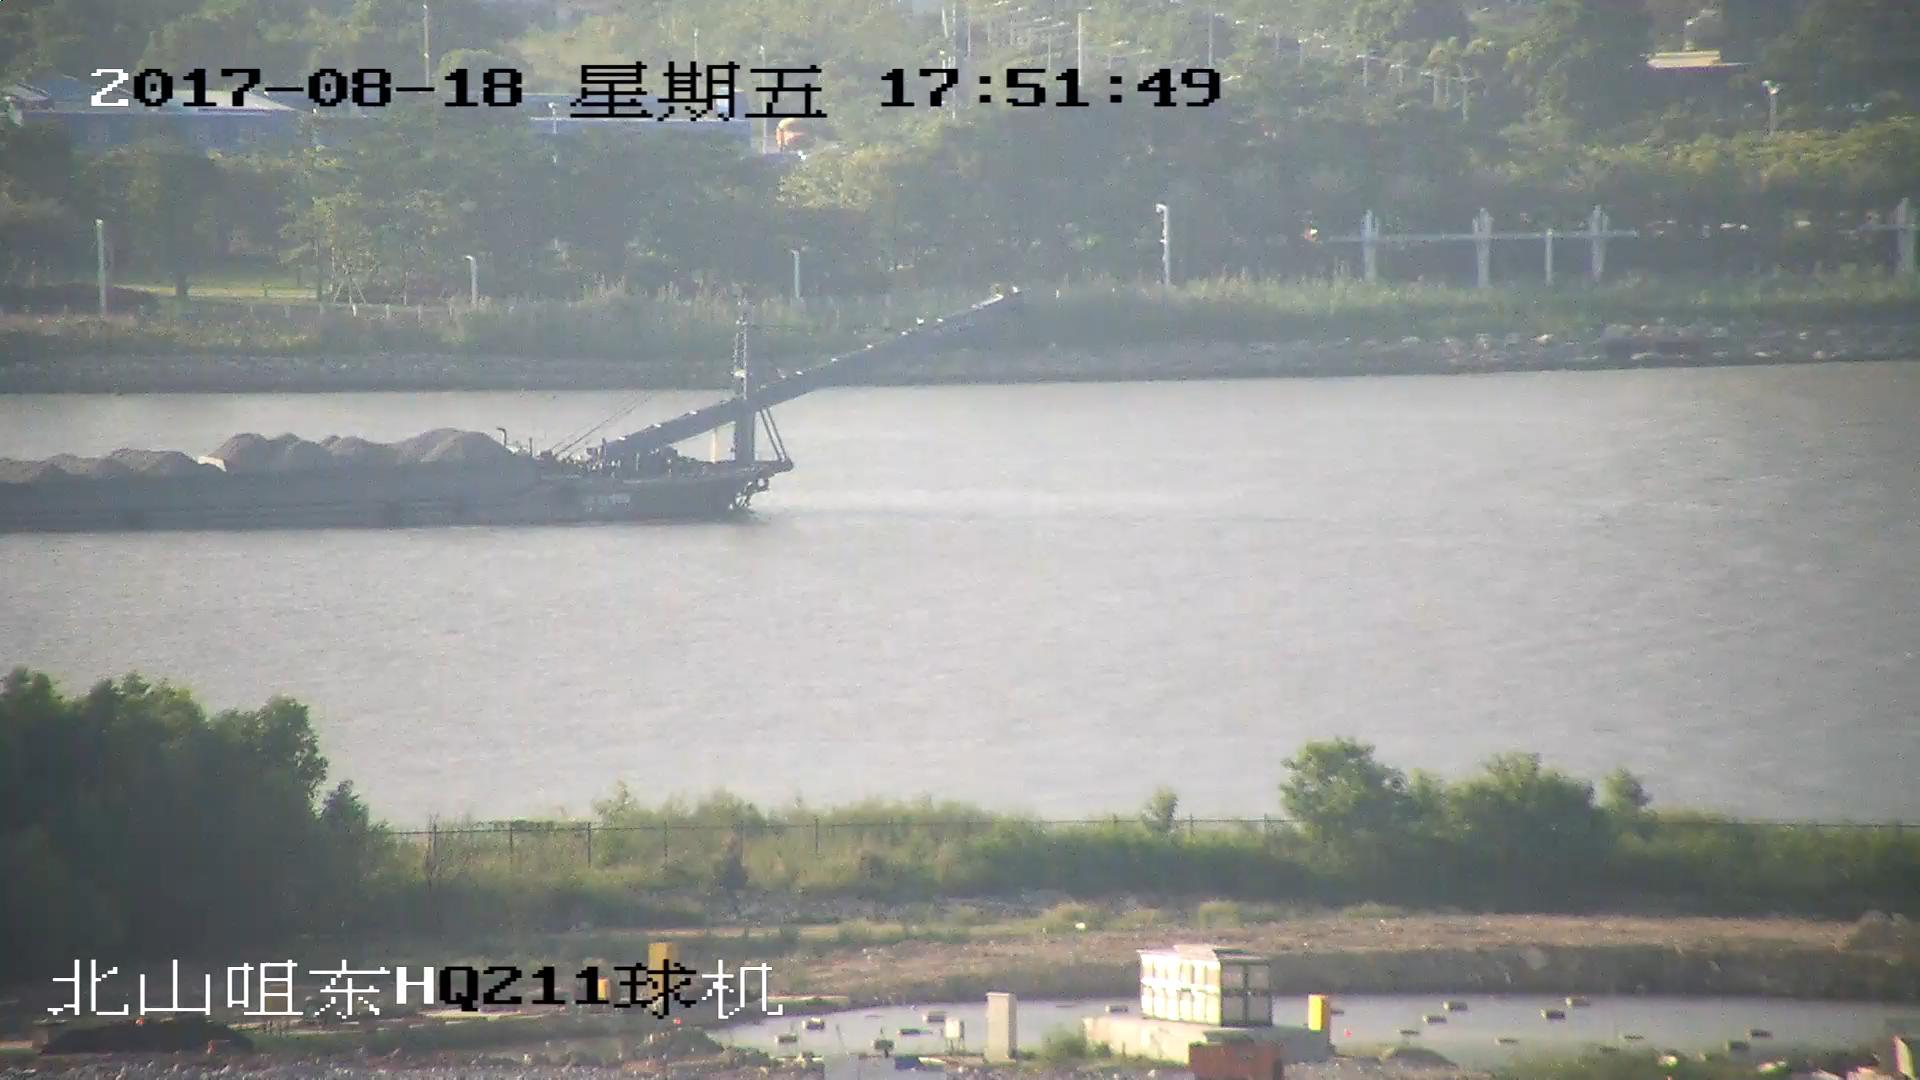Ship: (3, 291, 1018, 537)
